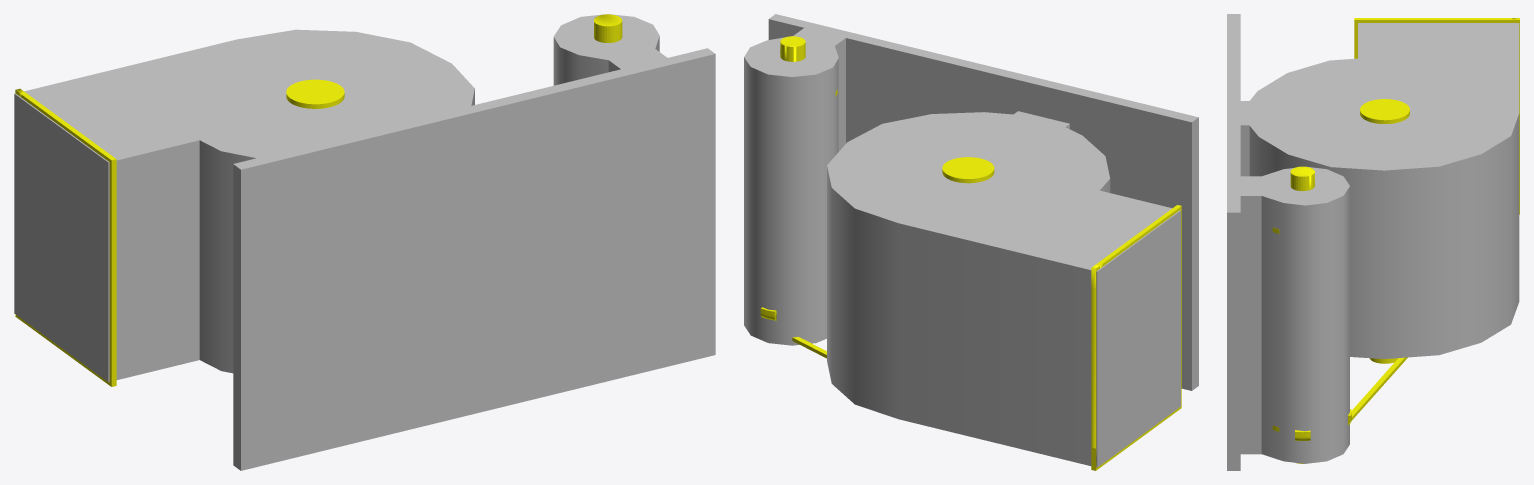
The model's file is sm_hana_bas_hrv.glb.
The picture shows the model from 3 angles, left to right: view 1: azimuth 30°, elevation 25°; view 2: azimuth 150°, elevation 25°; view 3: azimuth 270°, elevation 25°; orthographic projection. The views are drawn at different scales.
Visible parts, largest first — view 1: sm_color_common, sm_hana_bas_hrv; view 2: sm_color_common, sm_hana_bas_hrv; view 3: sm_color_common, sm_hana_bas_hrv.
Part boxes in pixels (bbox=[...]): sm_color_common: bbox=[14, 14, 715, 470]; sm_hana_bas_hrv: bbox=[15, 14, 622, 386]; sm_color_common: bbox=[744, 14, 1198, 467]; sm_hana_bas_hrv: bbox=[760, 36, 1181, 470]; sm_color_common: bbox=[1227, 14, 1519, 470]; sm_hana_bas_hrv: bbox=[1272, 18, 1519, 463].
Bounding box in the file's own units: 2.33 × 1.41 × 1.3.
2 materials, 1 textured.
